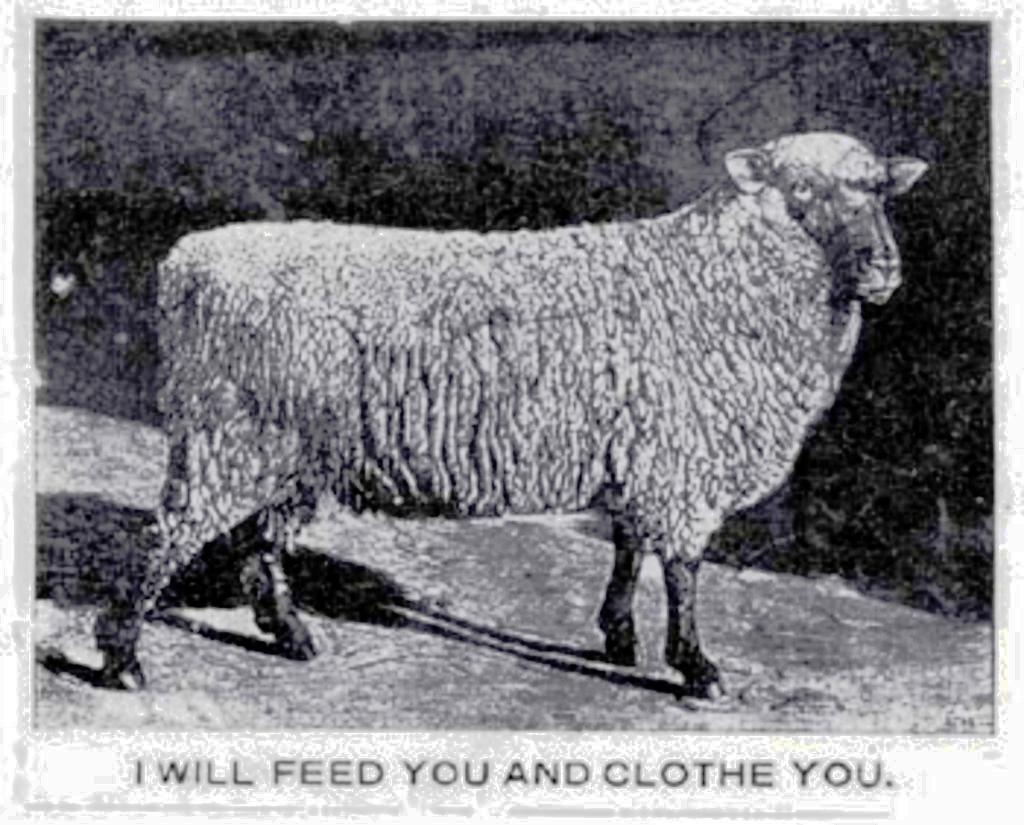Sheep: (90, 131, 922, 716)
